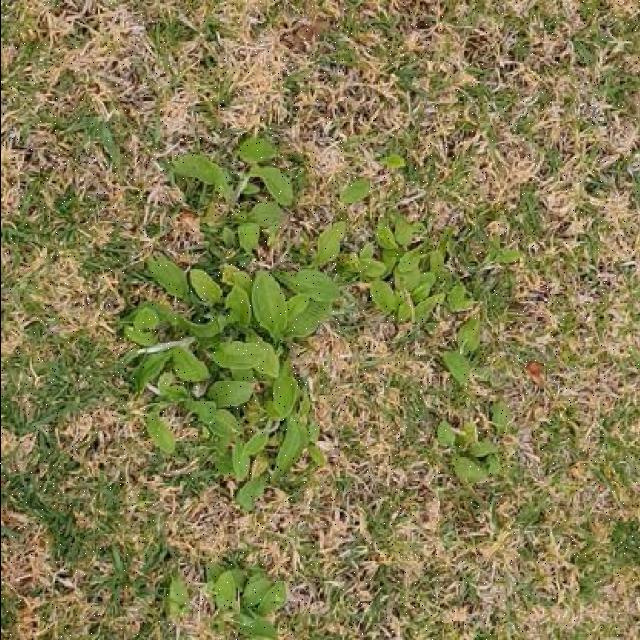weed: (119, 135, 471, 512), (204, 563, 283, 638)
